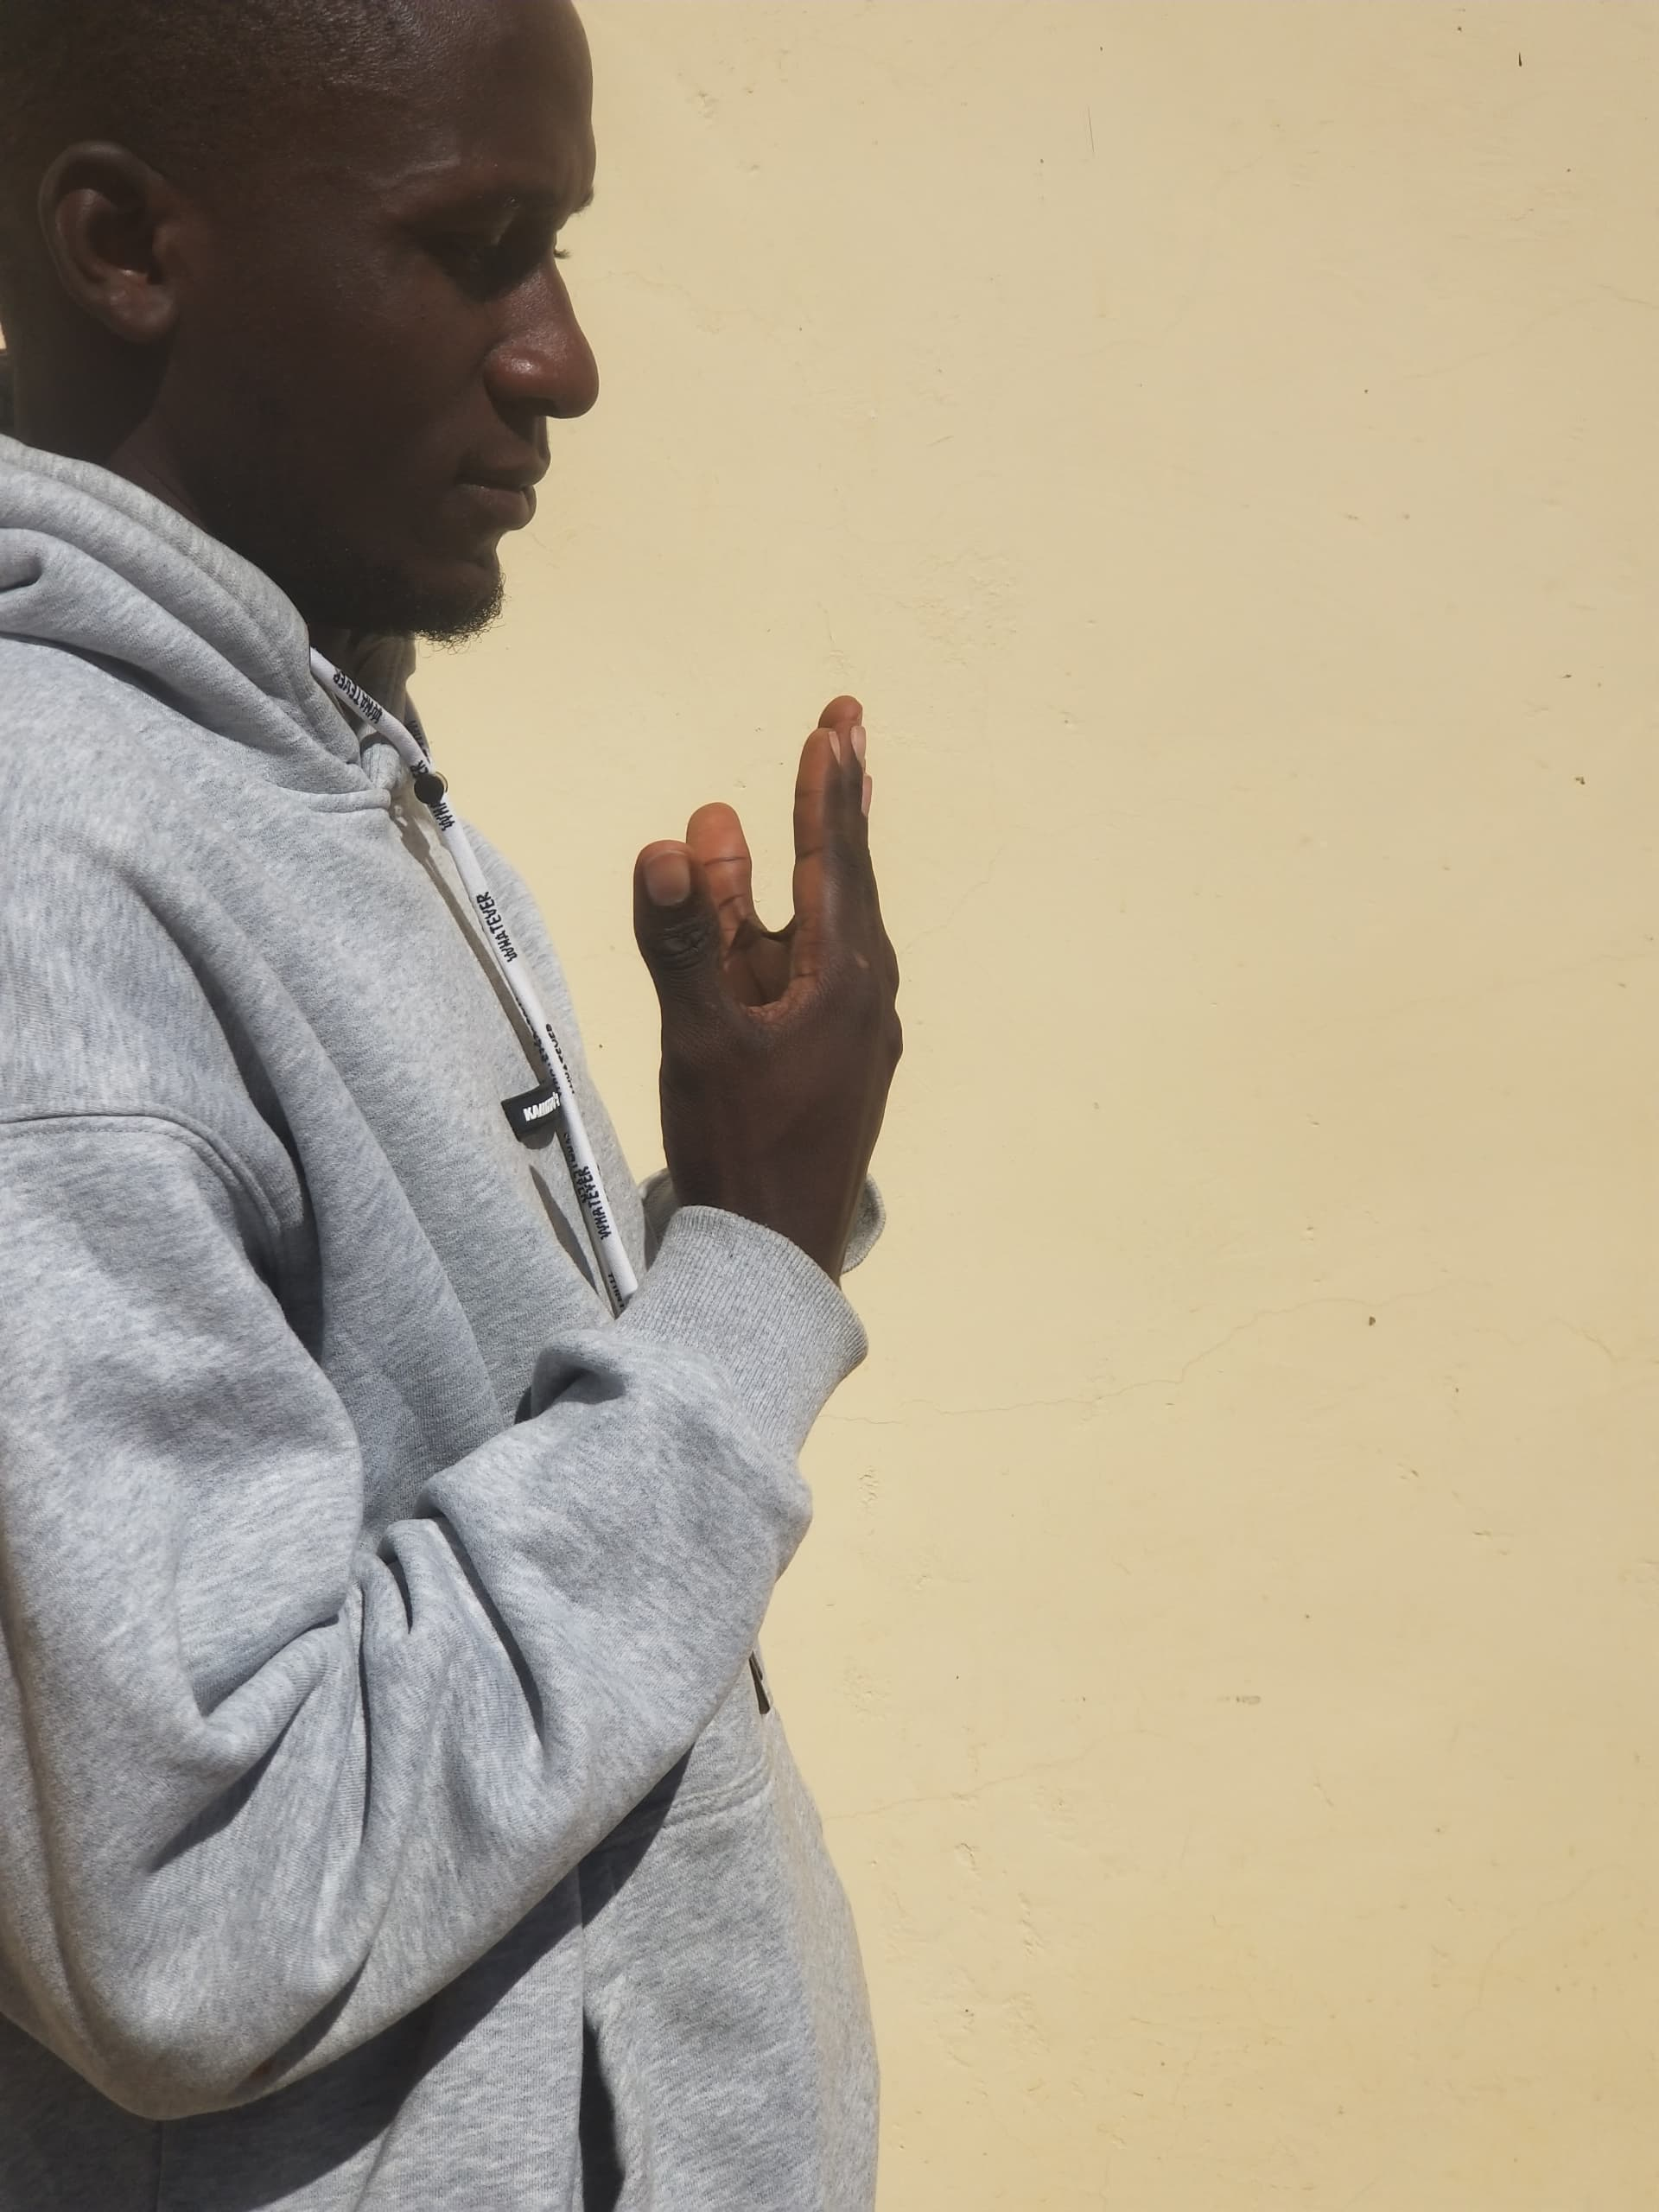thankyou: (479, 664, 1147, 1386)
